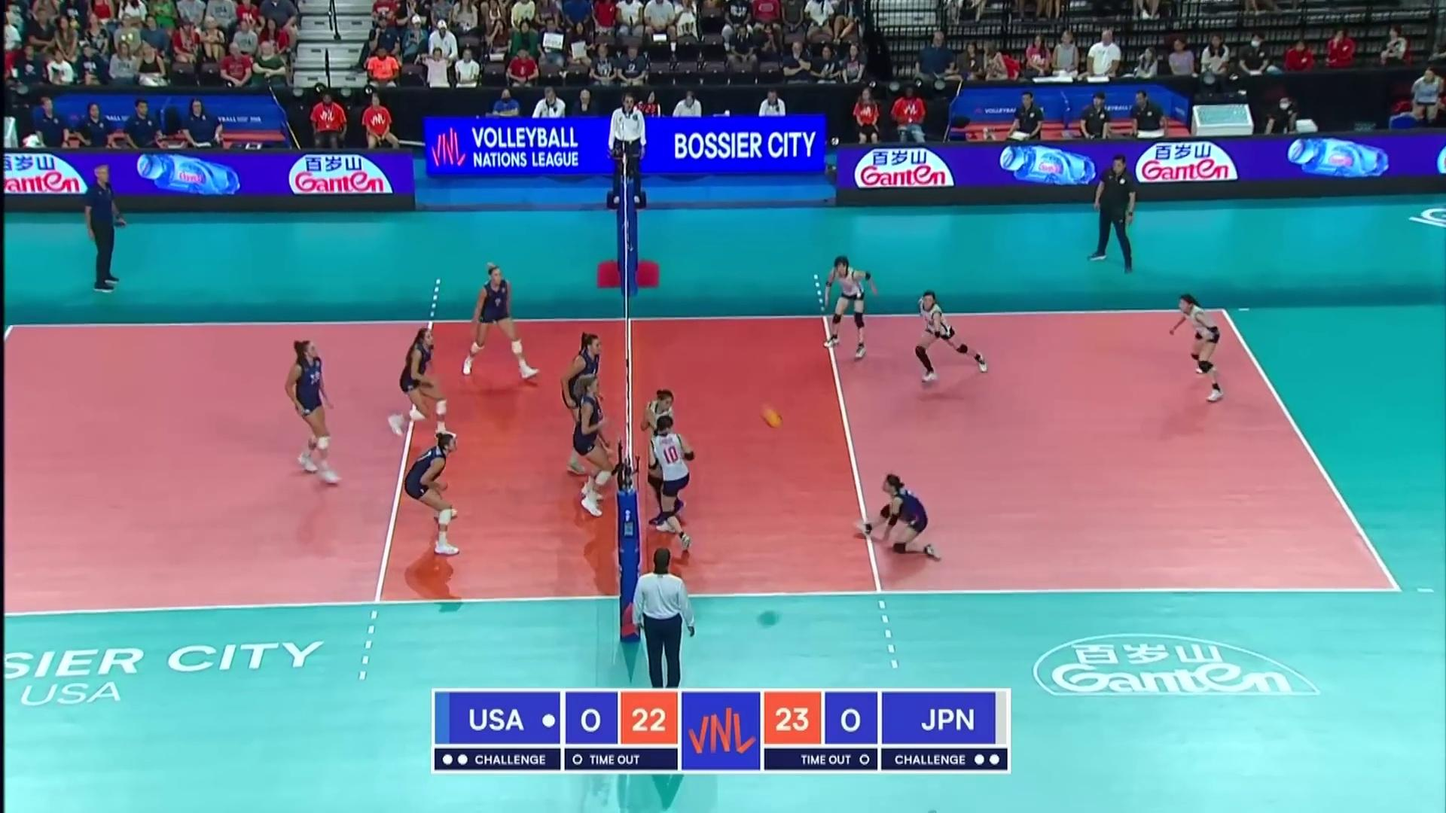player: (464, 261, 539, 378), (285, 338, 340, 484), (855, 470, 945, 558), (404, 432, 467, 554), (562, 331, 616, 473), (912, 292, 991, 385), (649, 414, 699, 559), (394, 330, 457, 441), (1167, 297, 1226, 405), (640, 389, 685, 530), (573, 376, 613, 520), (824, 258, 877, 363)
refree: (632, 548, 696, 705), (607, 94, 648, 202)
